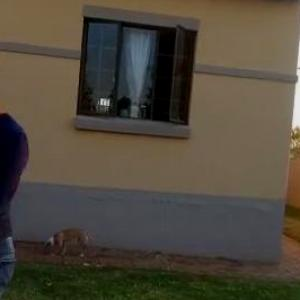follow: (0, 33, 32, 299)
null: (39, 222, 104, 260)
